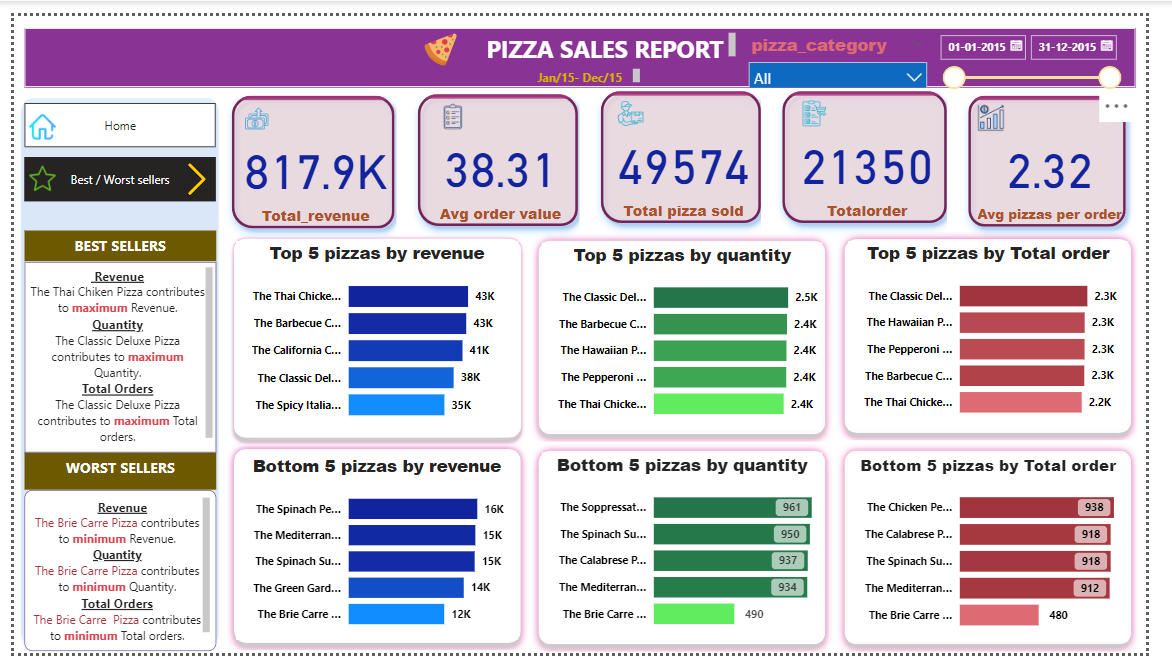

Layout of this report page (visuals, bound fields, positions):
{"tool":"powerbi","page":{"name":"Best / Worst sellers","canvas":[1280,720],"ordinal":1},"visuals":[{"type":"cardVisual","fields":{"Data":["pizza_sales.Total_revenue"]},"box":[221.3,65.6,232.8,198.4],"z":0},{"type":"cardVisual","fields":{"Data":["pizza_sales.Avg order value"]},"box":[432.3,64.8,229.9,197.5],"z":1000},{"type":"cardVisual","fields":{"Data":["pizza_sales.Total pizza's sold"]},"box":[639.6,61.5,229.9,197.5],"z":2000},{"type":"cardVisual","fields":{"Data":["pizza_sales.Totalorder"]},"box":[843.6,61.5,234.8,197.5],"z":3000},{"type":"cardVisual","fields":{"Data":["pizza_sales.Average pizzas per order"]},"box":[1054.1,65.6,226.2,196.7],"z":4000},{"type":"shape","box":[11.5,13.1,1255.7,67.2],"z":5000},{"type":"textbox","box":[134.4,408,233.2,43.7],"z":6000},{"type":"textbox","box":[74.5,519.8,263.9,43.7],"z":7000},{"type":"textbox","box":[521.3,13.1,298.4,41],"z":8000},{"type":"image","box":[442,13,79.3,48.6],"z":9000},{"type":"textbox","box":[573.8,54.1,137.7,26.2],"z":10000},{"type":"shape","box":[240,243.3,340,240],"z":11000},{"type":"shape","box":[0,85.2,239.3,634.4],"z":12000},{"type":"textbox","box":[11.5,242.6,216.4,34.4],"z":13000},{"type":"textbox","box":[11.7,493.3,216.7,41.7],"z":14000},{"type":"textbox","box":[11.7,535,216.7,181.7],"z":15000},{"type":"slicer","fields":{"Values":["pizza_sales.pizza_category"]},"box":[819.7,13.1,221.3,67.2],"z":16000},{"type":"slicer","fields":{"Values":["pizza_sales.order_date"]},"box":[1033.9,11.9,225.4,72.9],"z":17000},{"type":"shape","box":[585,245,340,235],"z":18000},{"type":"shape","box":[930,243.3,340,235],"z":19000},{"type":"shape","box":[240,481.7,340,235],"z":20000},{"type":"shape","box":[585,483.3,340,235],"z":21000},{"type":"shape","box":[930,483.3,340,235],"z":22000},{"type":"barChart","title":"Top 5 pizzas by revenue","fields":{"Category":["pizza_sales.pizza_name"],"Y":["pizza_sales.Total_revenue"]},"box":[251.7,255,318.3,215],"z":23000},{"type":"barChart","title":"Bottom 5 pizzas by revenue","fields":{"Category":["pizza_sales.pizza_name"],"Y":["pizza_sales.Total_revenue"]},"box":[250,495,318.3,210],"z":24000},{"type":"barChart","title":"Top 5 pizzas by quantity","fields":{"Category":["pizza_sales.pizza_name"],"Y":["Sum(pizza_sales.quantity)"]},"box":[596.7,256.7,316.7,211.7],"z":25000},{"type":"barChart","title":"Bottom 5 pizzas by quantity","fields":{"Category":["pizza_sales.pizza_name"],"Y":["Sum(pizza_sales.quantity)"]},"box":[596.7,493.3,316.7,211.7],"z":26000},{"type":"barChart","title":"Top 5 pizzas by Total order","fields":{"Category":["pizza_sales.pizza_name"],"Y":["pizza_sales.Totalorder"]},"box":[941.7,255,316.7,211.7],"z":27000},{"type":"barChart","title":"Bottom 5 pizzas by Total order","fields":{"Category":["pizza_sales.pizza_name"],"Y":["pizza_sales.Totalorder"]},"box":[941.7,495,316.7,211.7],"z":28000},{"type":"textbox","box":[11.7,278.3,216.7,215],"z":29000},{"type":"pageNavigator","box":[11.7,160,216.7,50],"z":30000},{"type":"pageNavigator","box":[11.7,98.3,216.7,50],"z":31000},{"type":"image","box":[11.7,158.3,40,51.7],"z":32000},{"type":"image","box":[183.3,160,46.7,50],"z":33000},{"type":"image","box":[11.7,98.3,40,53.3],"z":34000}]}

Visuals, with their boxes in screenshot pixels (x1, y1, x2, y2), scaled from the page's 1280x720 canvas onto the 1172x659 screenshot:
cardVisual - pizza_sales.Total_revenue: 203 60 416 242
cardVisual - pizza_sales.Avg order value: 396 59 606 240
cardVisual - pizza_sales.Total pizza's sold: 586 56 796 237
cardVisual - pizza_sales.Totalorder: 772 56 987 237
cardVisual - pizza_sales.Average pizzas per order: 965 60 1171 240
shape: 11 12 1160 73
textbox: 123 373 337 413
textbox: 68 476 310 516
textbox: 477 12 751 50
image: 405 12 477 56
textbox: 525 50 651 73
shape: 220 223 531 442
shape: 0 78 219 658
textbox: 11 222 209 254
textbox: 11 452 209 490
textbox: 11 490 209 656
slicer - pizza_sales.pizza_category: 751 12 953 73
slicer - pizza_sales.order_date: 947 11 1153 78
shape: 536 224 847 439
shape: 852 223 1163 438
shape: 220 441 531 656
shape: 536 442 847 657
shape: 852 442 1163 657
"Top 5 pizzas by revenue" barChart: 230 233 522 430
"Bottom 5 pizzas by revenue" barChart: 229 453 520 645
"Top 5 pizzas by quantity" barChart: 546 235 836 429
"Bottom 5 pizzas by quantity" barChart: 546 452 836 645
"Top 5 pizzas by Total order" barChart: 862 233 1152 427
"Bottom 5 pizzas by Total order" barChart: 862 453 1152 647
textbox: 11 255 209 452
pageNavigator: 11 146 209 192
pageNavigator: 11 90 209 136
image: 11 145 47 192
image: 168 146 211 192
image: 11 90 47 139
